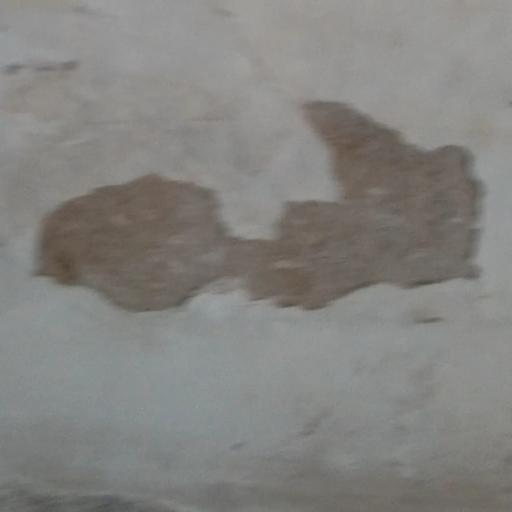peeling: (16, 67, 498, 336)
